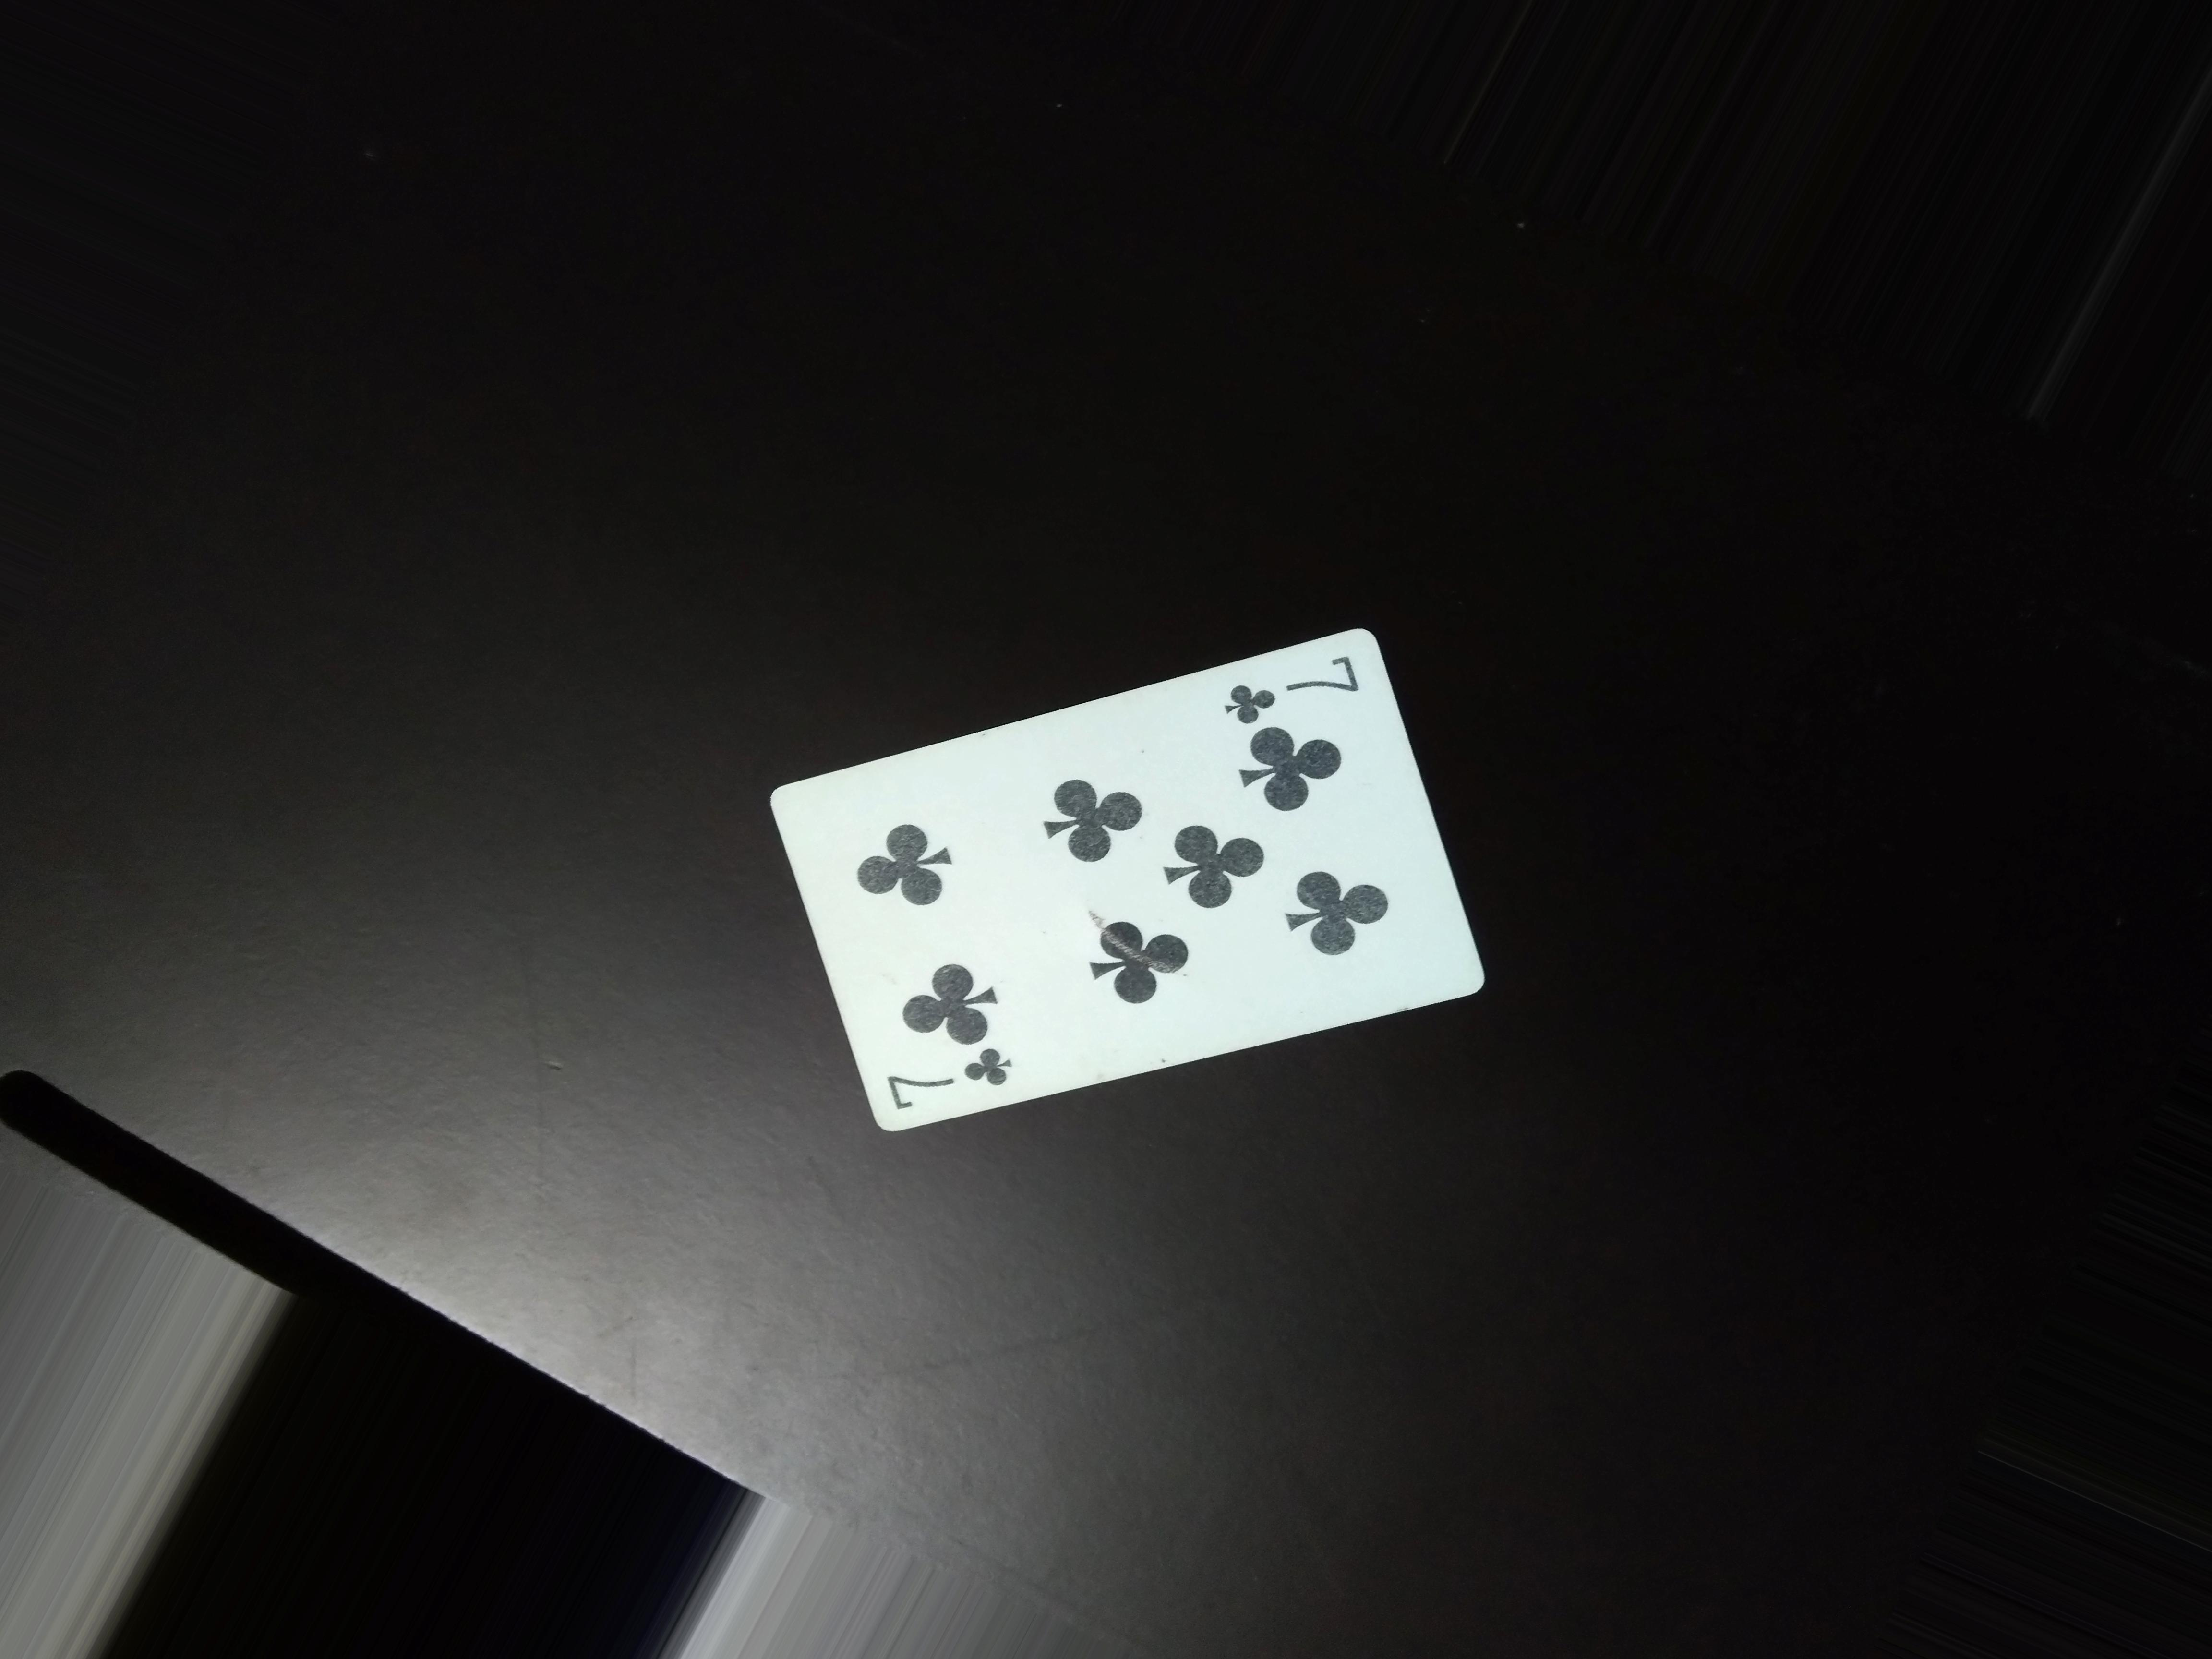7C: (1207, 652, 1371, 727)
